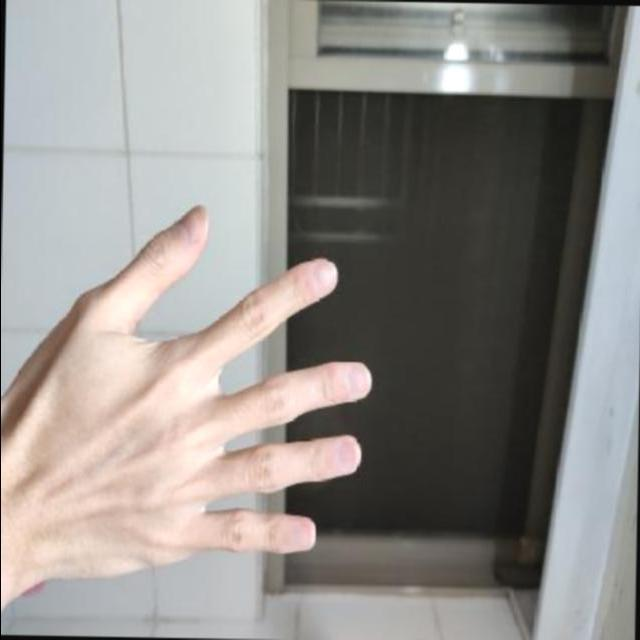Hand: (0, 193, 382, 616)
